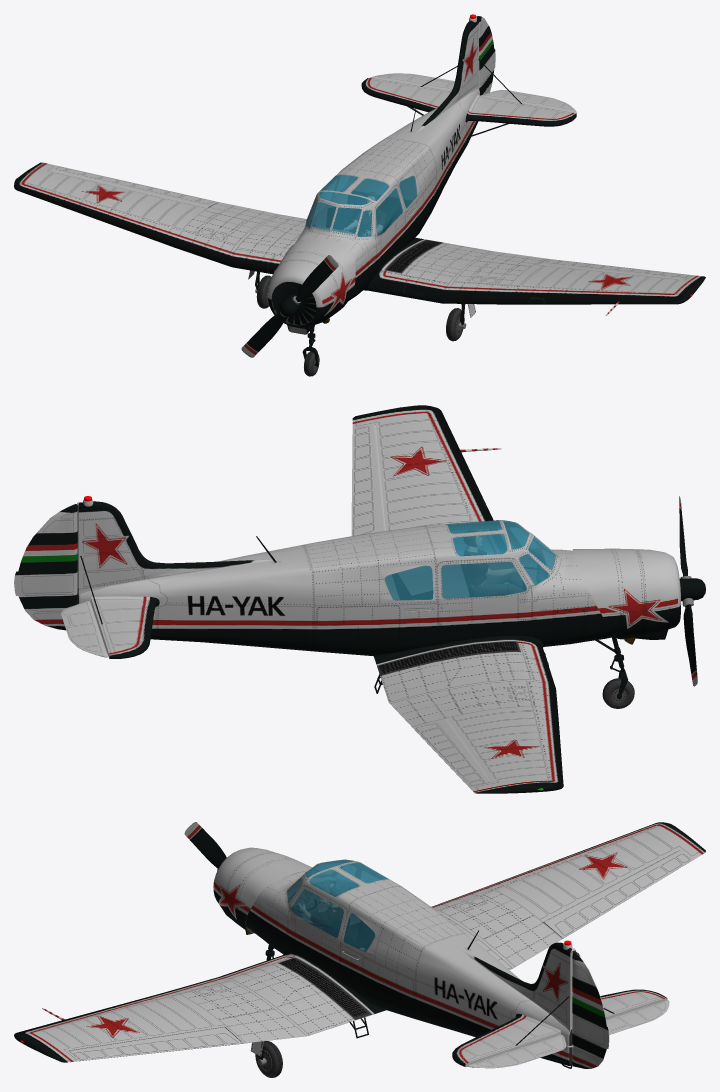
File: yak-18.glb
3 views of the same model, one above another, from view 1: azimuth 30°, elevation 25°; view 2: azimuth 150°, elevation 25°; view 3: azimuth 270°, elevation 25° (orthographic). The views are drawn at different scales.
Parts seen in each view (by area): view 1: ______02-FACES (×2), krilo_left-FACES, krilo_right-FACES, kabina_vnutr-FACES (×2), Line39-FACES, _______02-FACES, Line72-FACES, vint-FACES, eleron_left01-FACES, ____________14-FACES, Object10-FACES, eleron_left-FACES (+3 smaller); view 2: ______02-FACES (×2), krilo_right-FACES, krilo_left-FACES, kabina_vnutr-FACES (×2), _______02-FACES, ____________14-FACES, Line72-FACES, eleron_left-FACES, eleron_left01-FACES, Line73-FACES, vint-FACES, Torus04-FACES; view 3: ______02-FACES (×2), krilo_left-FACES, krilo_right-FACES, kabina_vnutr-FACES (×2), ____________14-FACES, _______02-FACES, eleron_left01-FACES, eleron_left-FACES, Line39-FACES, Line38-FACES, Line72-FACES, Line73-FACES (+3 smaller).
Part boxes in pixels (x1=…): ______02-FACES (×2): x1=267, y1=89, x2=479, y2=327; krilo_left-FACES: x1=363, y1=237, x2=705, y2=304; krilo_right-FACES: x1=14, y1=162, x2=306, y2=274; kabina_vnutr-FACES (×2): x1=306, y1=174, x2=417, y2=236; Line39-FACES: x1=465, y1=94, x2=576, y2=126; _______02-FACES: x1=415, y1=16, x2=479, y2=132; Line72-FACES: x1=361, y1=78, x2=451, y2=112; vint-FACES: x1=241, y1=255, x2=338, y2=357; eleron_left01-FACES: x1=53, y1=166, x2=217, y2=207; ____________14-FACES: x1=476, y1=16, x2=495, y2=95; Object10-FACES: x1=272, y1=282, x2=316, y2=324; eleron_left-FACES: x1=538, y1=259, x2=689, y2=279; ______02-FACES (×2): x1=77, y1=520, x2=681, y2=656; krilo_right-FACES: x1=374, y1=635, x2=563, y2=793; krilo_left-FACES: x1=352, y1=405, x2=493, y2=530; kabina_vnutr-FACES (×2): x1=384, y1=520, x2=555, y2=600; _______02-FACES: x1=77, y1=499, x2=275, y2=595; ____________14-FACES: x1=14, y1=504, x2=77, y2=630; Line72-FACES: x1=91, y1=596, x2=159, y2=658; eleron_left-FACES: x1=351, y1=424, x2=385, y2=535; eleron_left01-FACES: x1=412, y1=718, x2=491, y2=786; Line73-FACES: x1=61, y1=601, x2=107, y2=657; vint-FACES: x1=679, y1=496, x2=697, y2=686; Torus04-FACES: x1=602, y1=678, x2=634, y2=708; ______02-FACES (×2): x1=213, y1=847, x2=572, y2=1065; krilo_left-FACES: x1=14, y1=950, x2=385, y2=1062; krilo_right-FACES: x1=431, y1=822, x2=705, y2=969; kabina_vnutr-FACES (×2): x1=287, y1=860, x2=386, y2=951; ____________14-FACES: x1=572, y1=951, x2=609, y2=1068; _______02-FACES: x1=462, y1=942, x2=575, y2=1031; eleron_left01-FACES: x1=543, y1=850, x2=692, y2=938; eleron_left-FACES: x1=69, y1=1027, x2=242, y2=1060; Line39-FACES: x1=452, y1=1014, x2=560, y2=1067; Line38-FACES: x1=467, y1=1034, x2=566, y2=1068; Line72-FACES: x1=600, y1=989, x2=667, y2=1018; Line73-FACES: x1=606, y1=1000, x2=669, y2=1034.
Bounding box in the file's own units: 8.56 × 3.28 × 9.39.
Materials: 36 (21 with a texture image).
